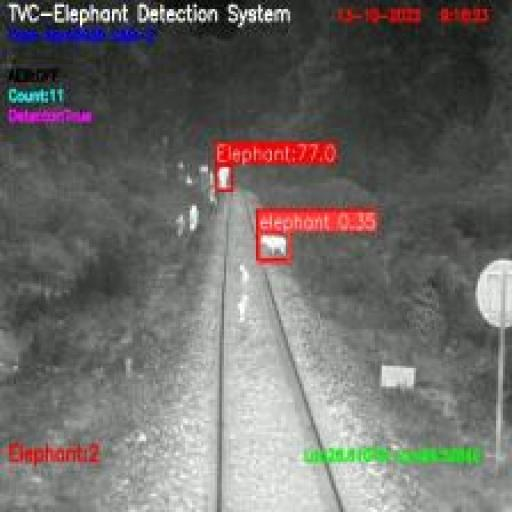Elephant: (261, 231, 290, 263)
